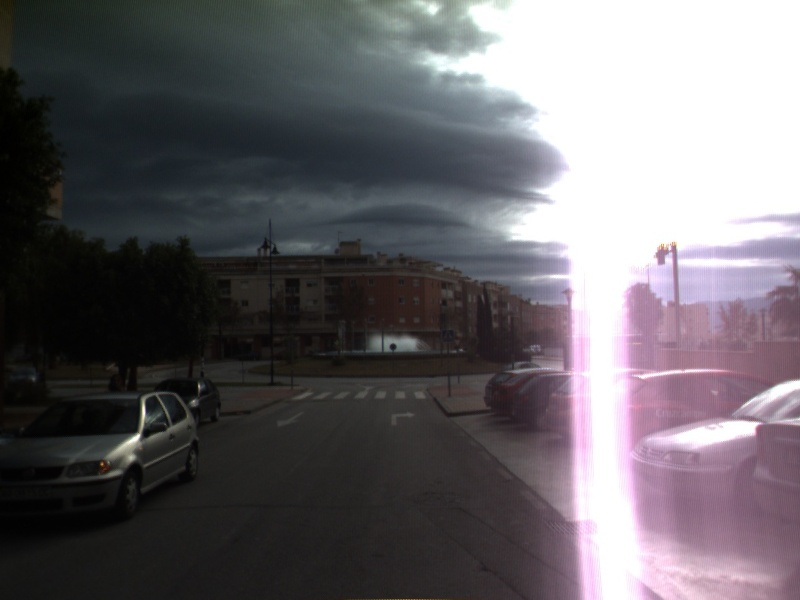RIGHT: (389, 408, 417, 428)
